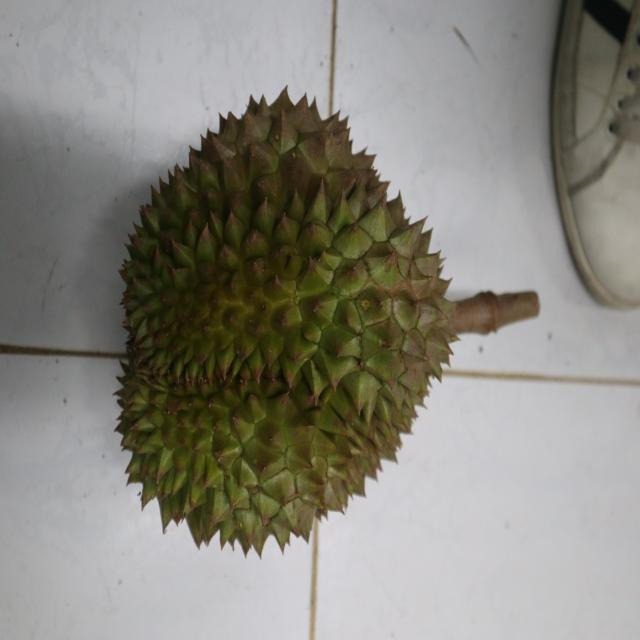mature: (118, 84, 460, 566)
